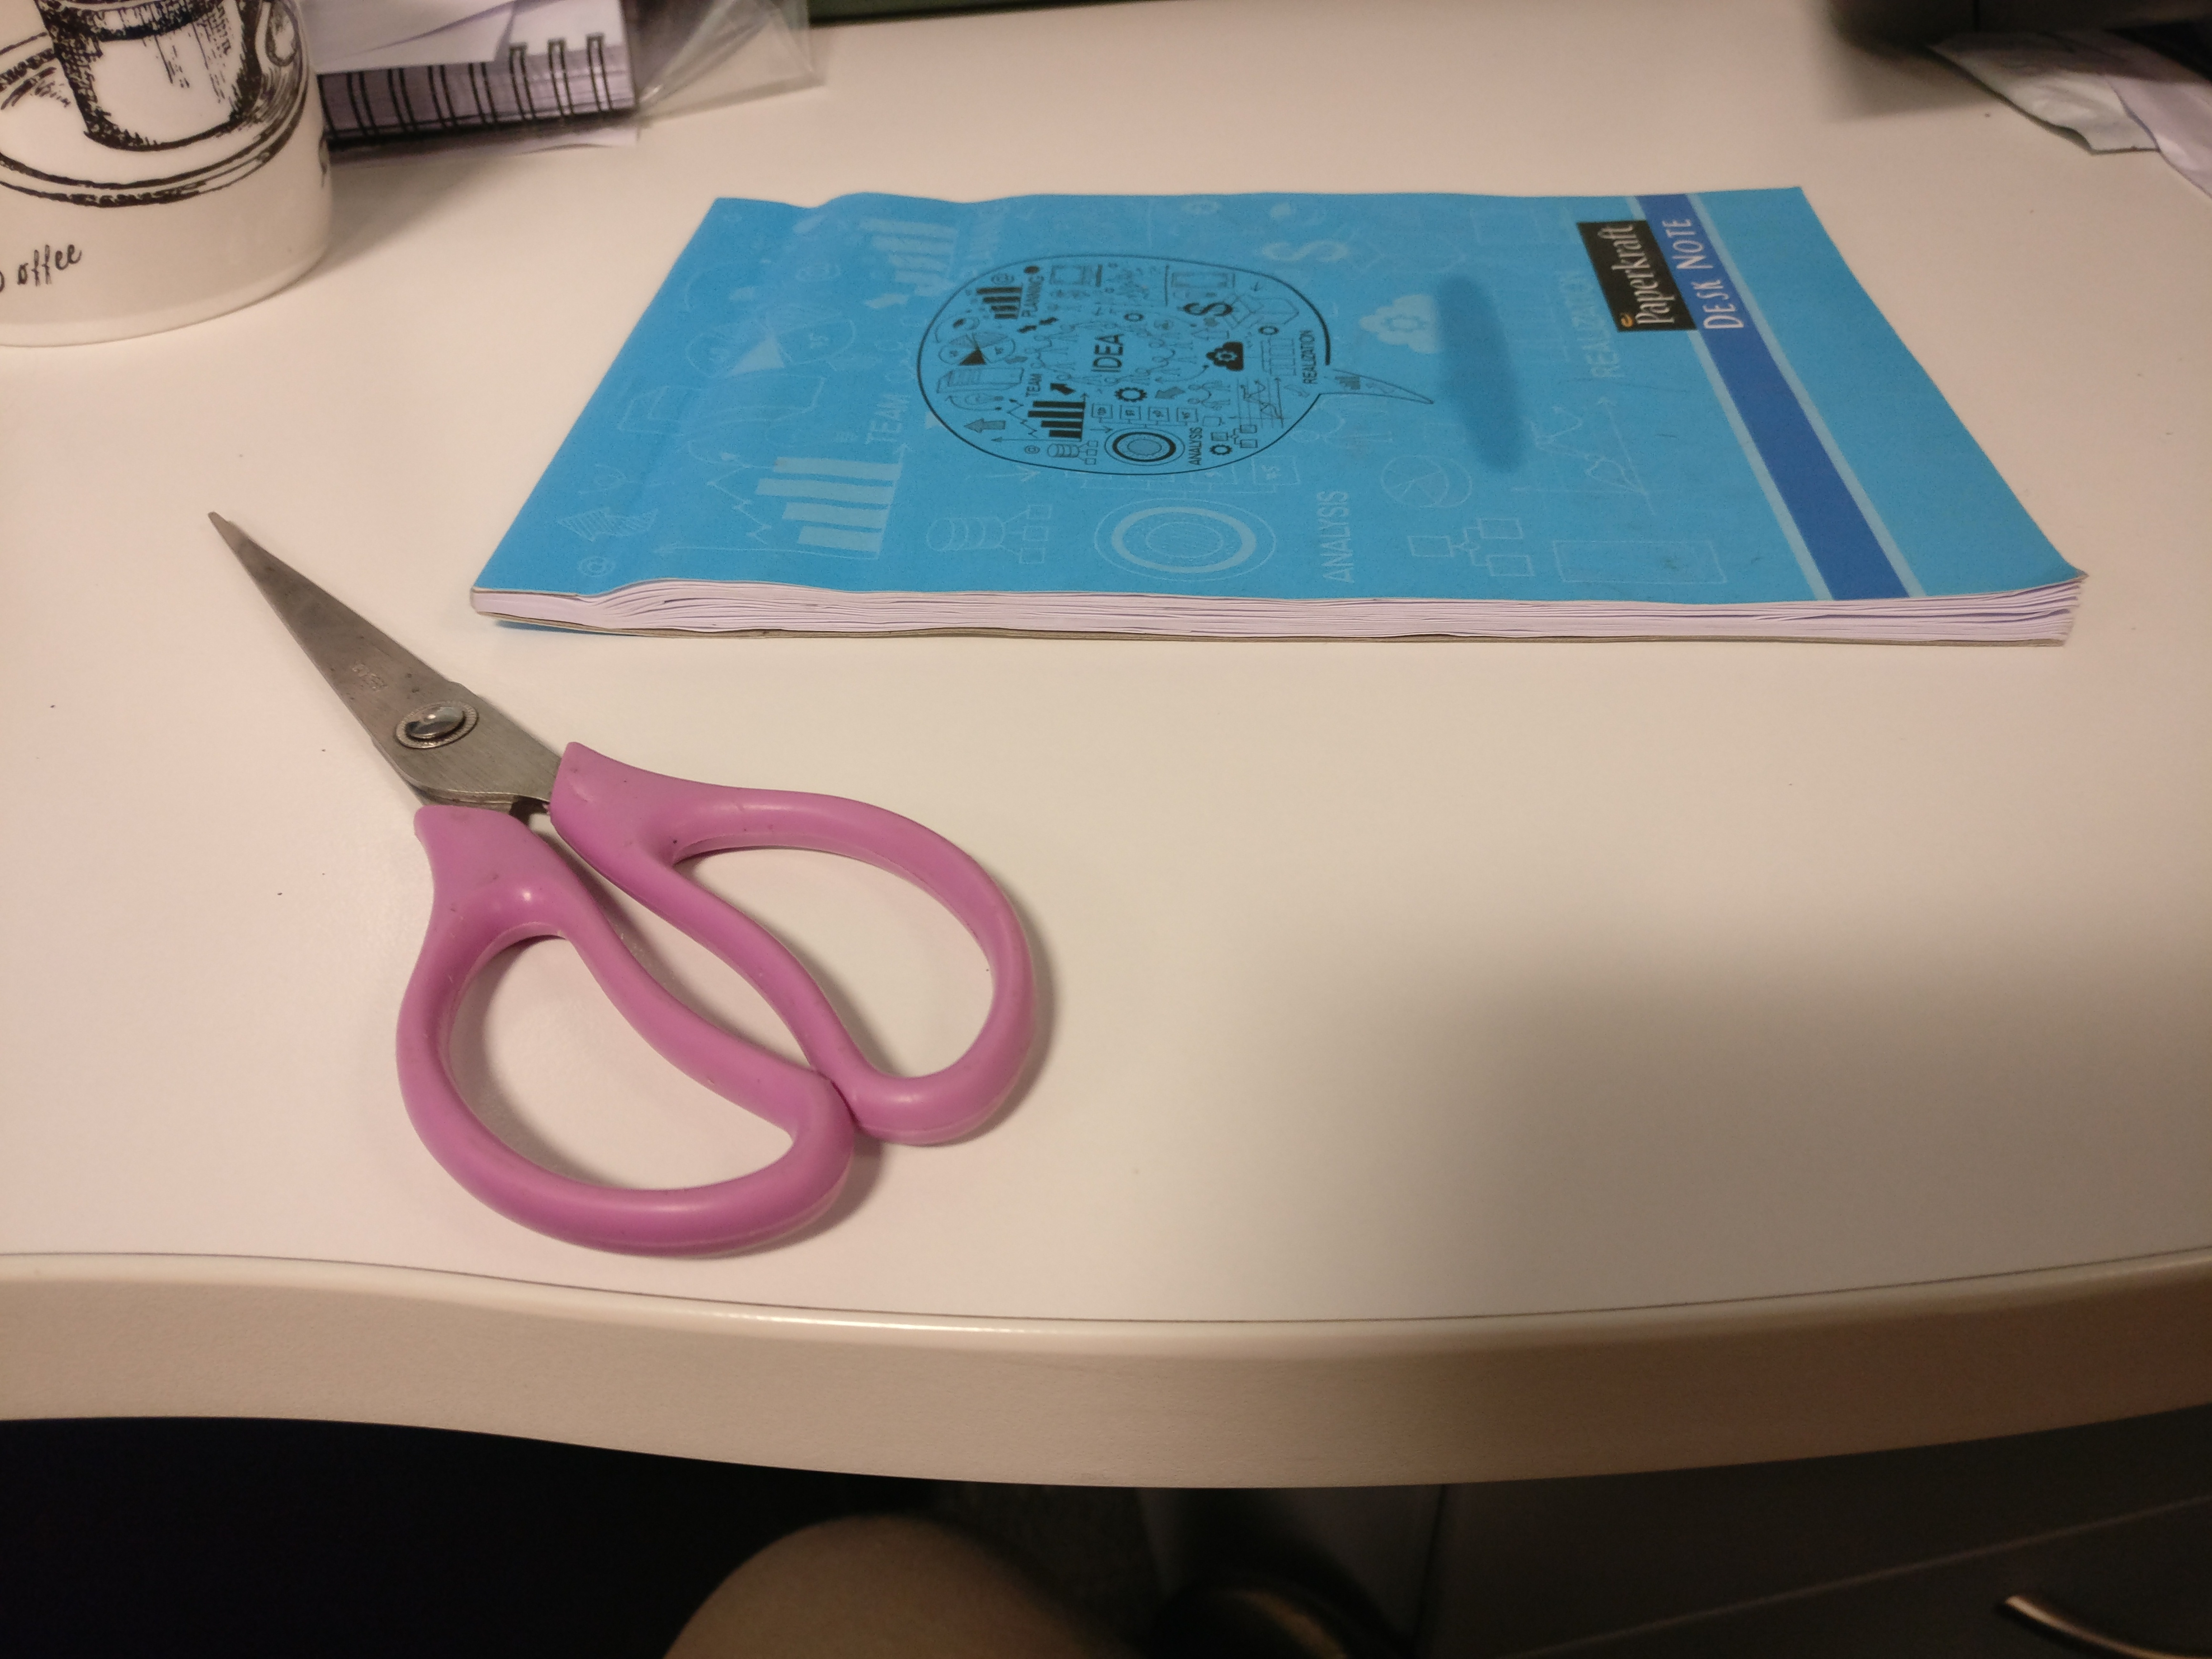book: (493, 160, 2118, 674)
scissor: (141, 523, 1115, 1288)
